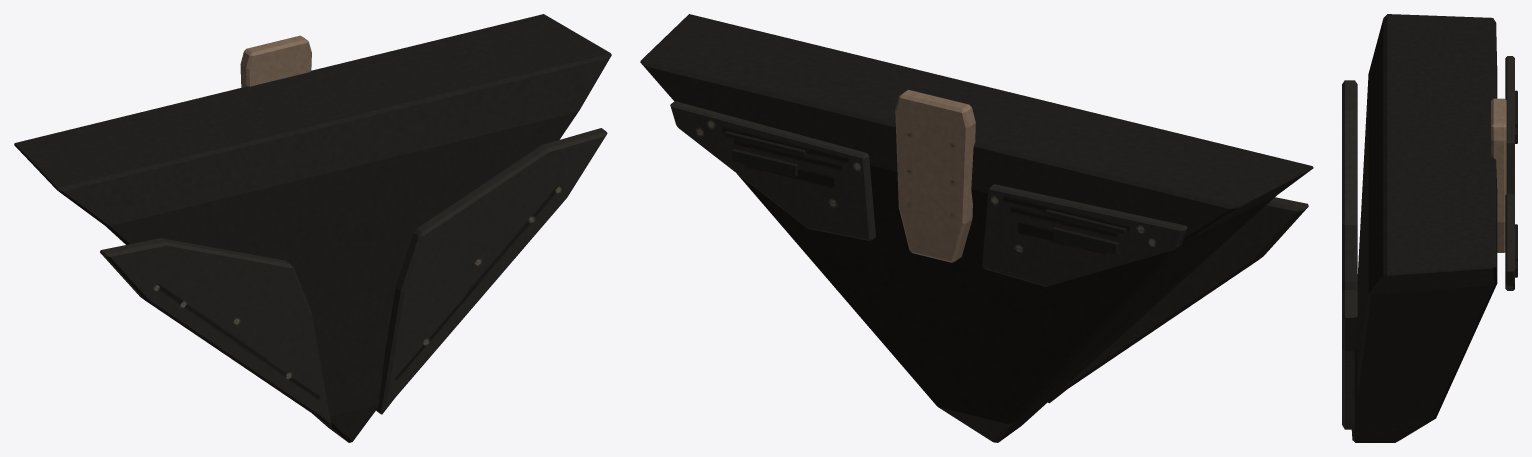
Rendered from body_frame.obj.
The picture shows the model from 3 angles, left to right: view 1: azimuth 30°, elevation 25°; view 2: azimuth 150°, elevation 25°; view 3: azimuth 270°, elevation 25°; orthographic projection. The views are drawn at different scales.
Parts seen in each view (by area): view 1: body_frame; view 2: body_frame; view 3: body_frame.
Boxes of the visible parts, left/top/right/bottom form: body_frame: left=14, top=14, right=611, bottom=442; body_frame: left=640, top=14, right=1313, bottom=442; body_frame: left=1342, top=14, right=1517, bottom=442.
Size of the model in its own units: 4.36 by 2.59 by 1.24.
1 material, 1 textured.
